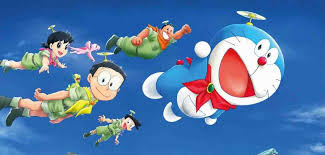doraemon: (142, 23, 286, 126)
